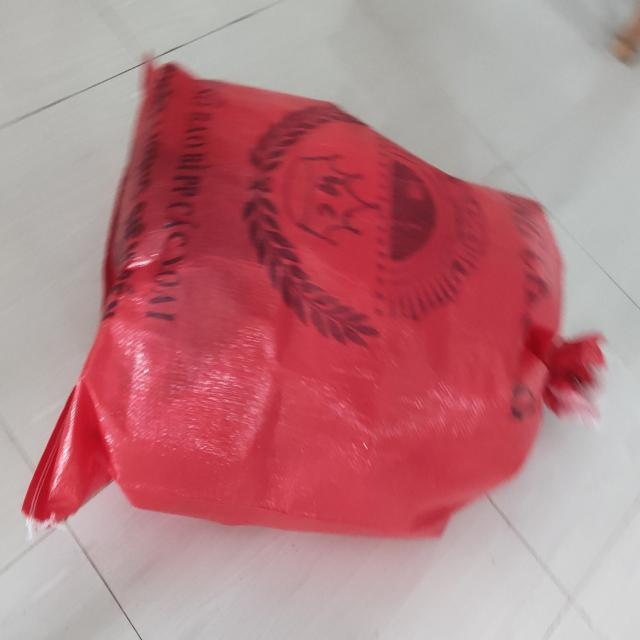gunny_bag: (22, 63, 604, 537)
